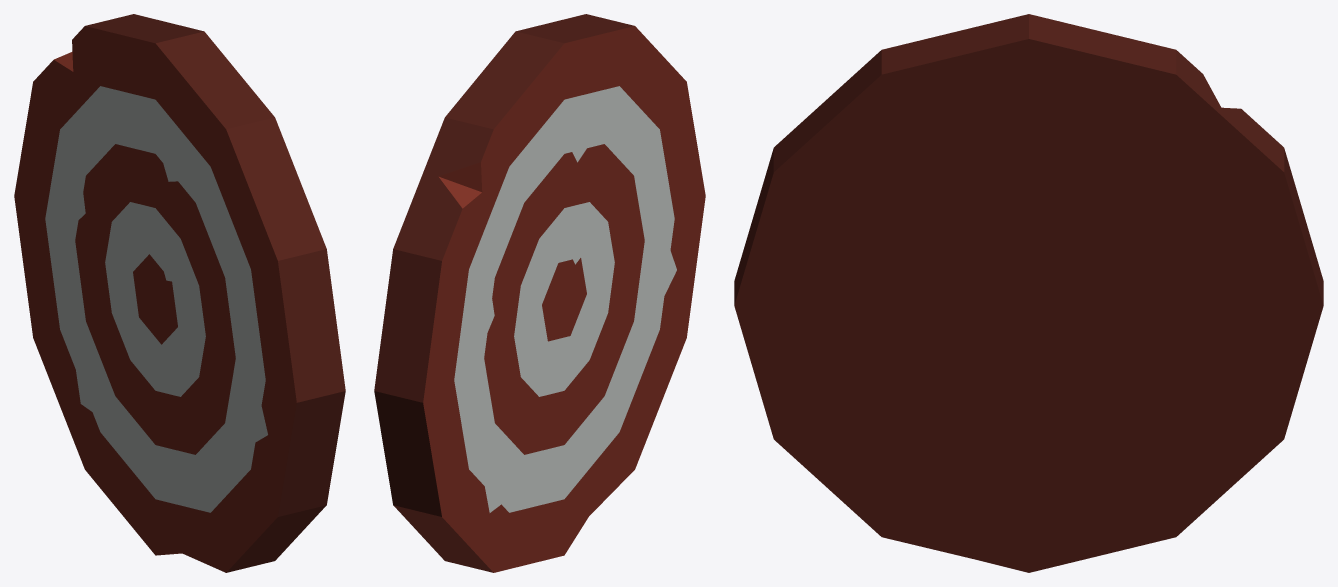
Rendered from darts.fbx.
3 views of the same model, side by side, from view 1: azimuth 30°, elevation 25°; view 2: azimuth 150°, elevation 25°; view 3: azimuth 270°, elevation 25° (orthographic). The views are drawn at different scales.
Visible parts, largest first — view 1: SM_PolygonPrototype_Prop_Target_03__2_; view 2: SM_PolygonPrototype_Prop_Target_03__2_; view 3: SM_PolygonPrototype_Prop_Target_03__2_.
Boxes of the visible parts, x1,y1,x2,y2 form: SM_PolygonPrototype_Prop_Target_03__2_: (14, 14, 345, 572); SM_PolygonPrototype_Prop_Target_03__2_: (374, 14, 705, 572); SM_PolygonPrototype_Prop_Target_03__2_: (734, 14, 1323, 572).
Size of the model in its own units: 16.24 by 162 by 162.
Materials: 1 (1 with a texture image).
